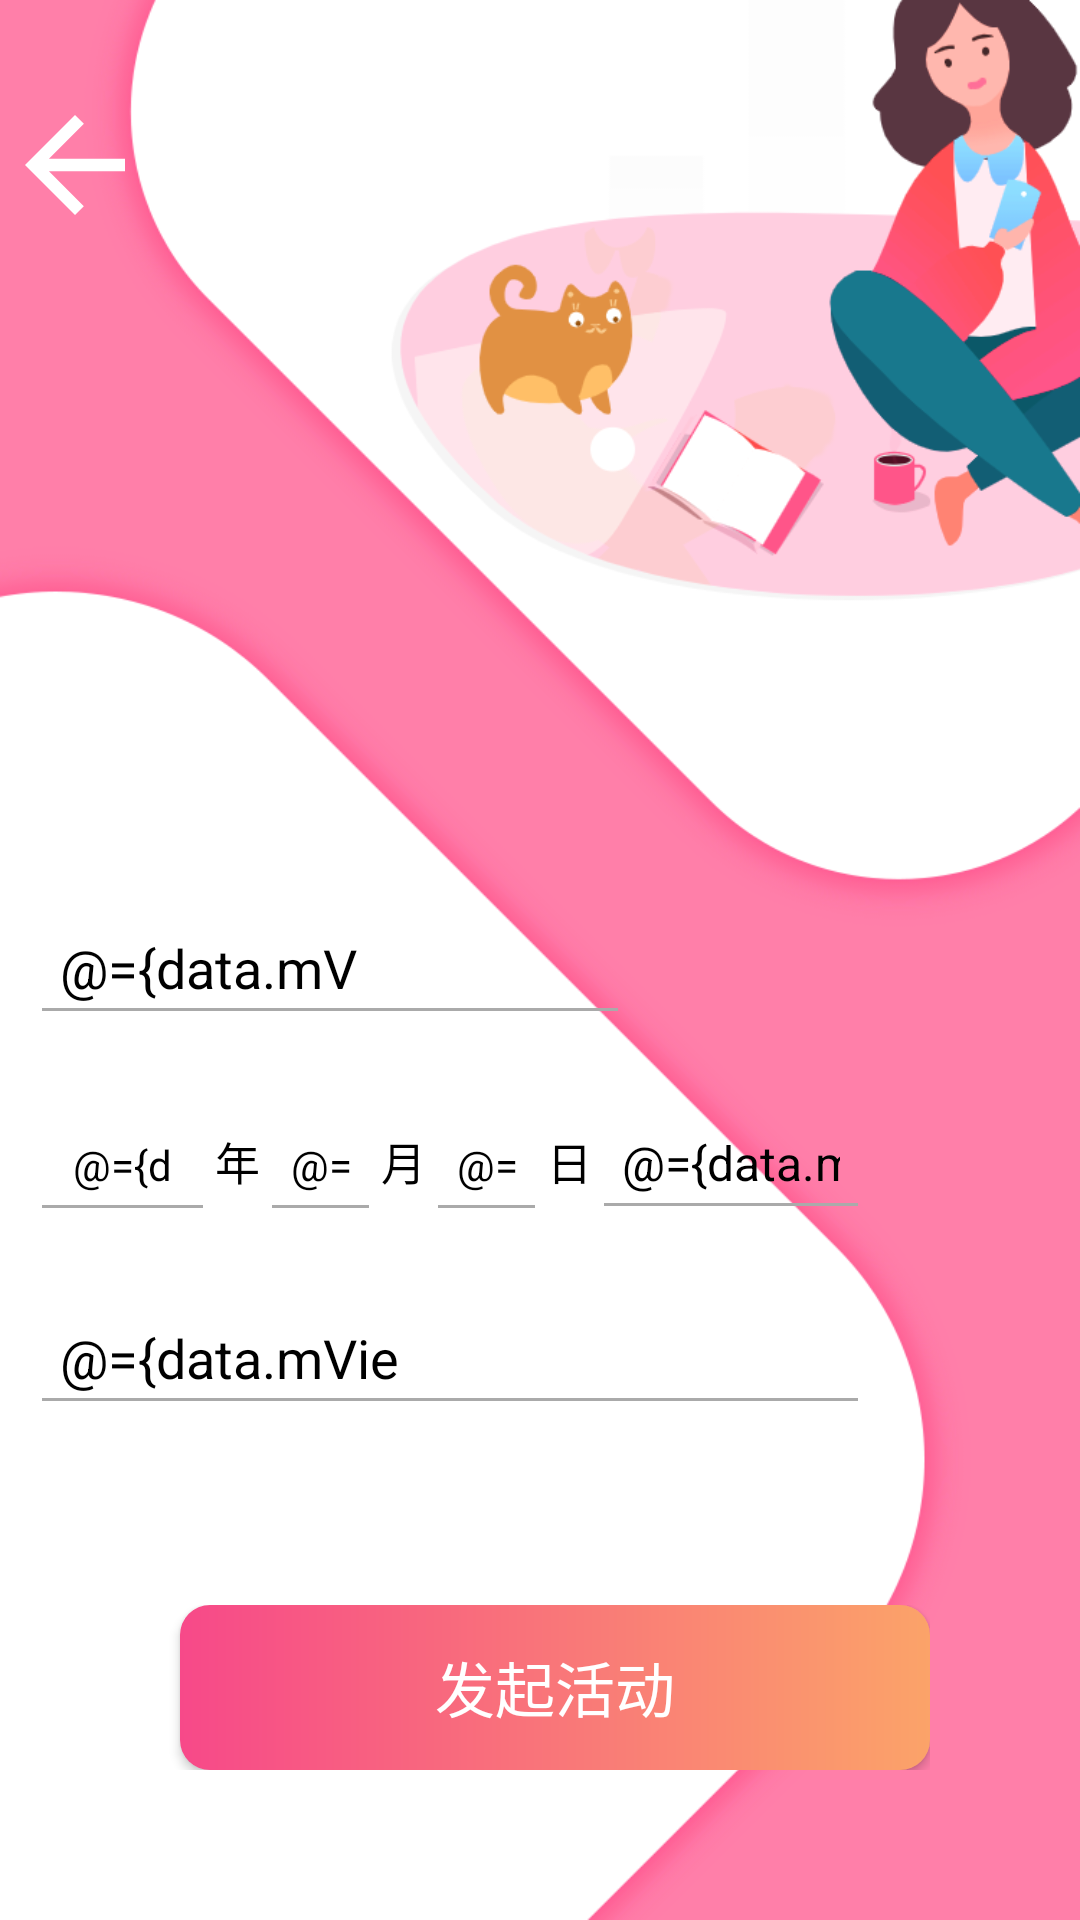

Screen size 1080x1920. Icon name, then its box in pixels as bbox=[x1, y1, x2, y2]:
arrow back: bbox=[25, 115, 125, 215]
